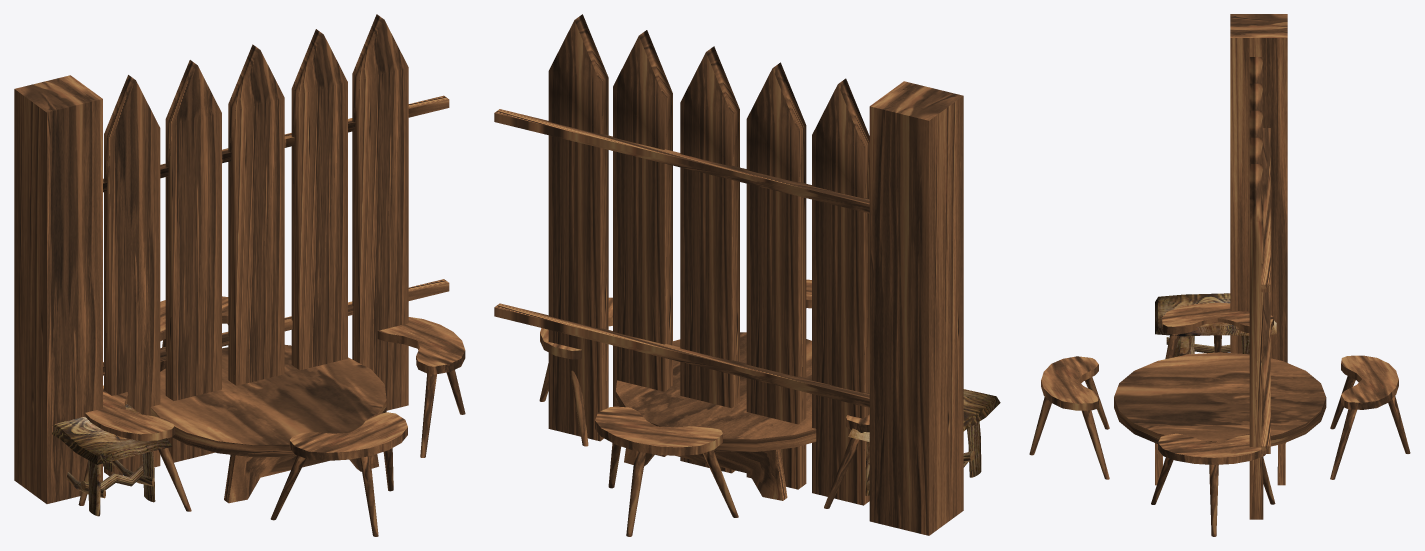
The model's file is Chair - type 2.fbx.
3 views of the same model, side by side, from view 1: azimuth 30°, elevation 25°; view 2: azimuth 150°, elevation 25°; view 3: azimuth 270°, elevation 25° (orthographic). The views are drawn at different scales.
Parts seen in each view (by area): view 1: pCube18, pCube5, Wooden_Table, Wooden_Chair2, stol_bez_oblegalka, Wooden_Chair4, Wooden_Chair3; view 2: pCube18, pCube5, Wooden_Table, Wooden_Chair, stol_bez_oblegalka, Wooden_Chair4, Wooden_Chair3; view 3: Wooden_Table, pCube5, pCube18, Wooden_Chair, Wooden_Chair2, Wooden_Chair4, stol_bez_oblegalka, Wooden_Chair3.
Part boxes in pixels (bbox=[...]): pCube18: bbox=[103, 14, 449, 475]; pCube5: bbox=[14, 75, 102, 503]; Wooden_Table: bbox=[150, 345, 386, 503]; Wooden_Chair2: bbox=[270, 412, 407, 536]; stol_bez_oblegalka: bbox=[52, 403, 171, 516]; Wooden_Chair4: bbox=[377, 317, 465, 457]; Wooden_Chair3: bbox=[78, 385, 191, 511]; pCube18: bbox=[494, 14, 869, 505]; pCube5: bbox=[869, 81, 963, 535]; Wooden_Table: bbox=[615, 332, 816, 500]; Wooden_Chair: bbox=[595, 406, 738, 536]; stol_bez_oblegalka: bbox=[848, 389, 1000, 495]; Wooden_Chair4: bbox=[539, 297, 612, 446]; Wooden_Chair3: bbox=[824, 414, 869, 508]; Wooden_Table: bbox=[1114, 352, 1326, 485]; pCube5: bbox=[1230, 14, 1287, 362]; pCube18: bbox=[1249, 57, 1270, 519]; Wooden_Chair: bbox=[1330, 355, 1410, 479]; Wooden_Chair2: bbox=[1029, 356, 1109, 479]; Wooden_Chair4: bbox=[1151, 433, 1275, 536]; stol_bez_oblegalka: bbox=[1155, 293, 1276, 357]; Wooden_Chair3: bbox=[1162, 302, 1273, 358].
Bounding box in the file's own units: 403 × 361 × 359.
2 materials, 2 textured.
